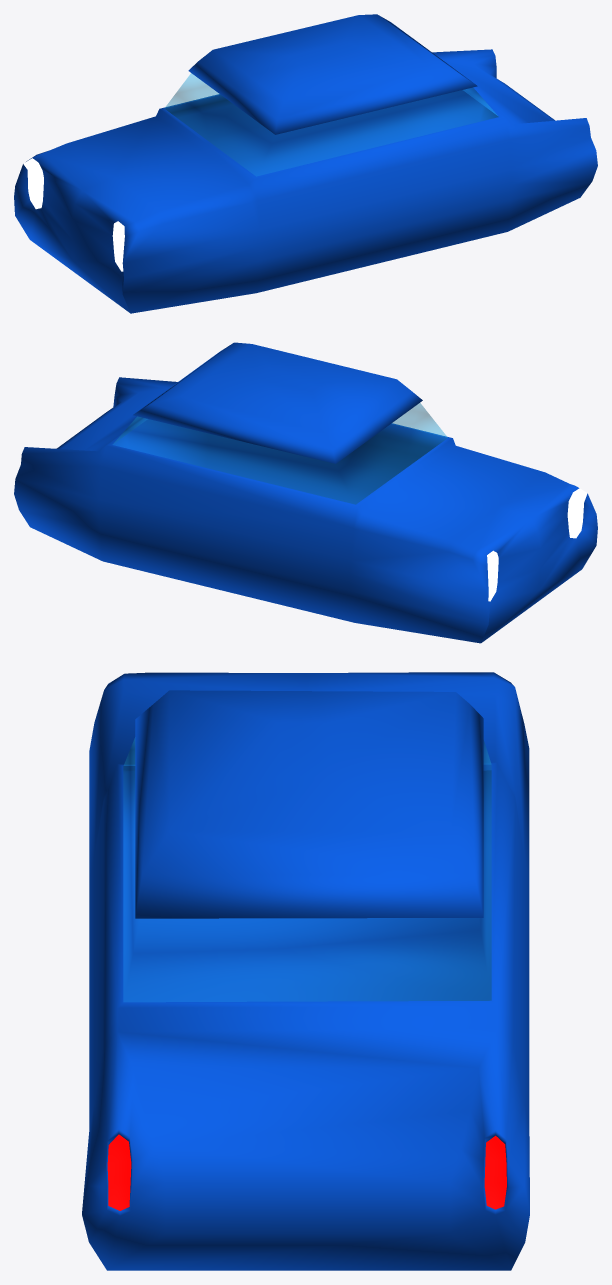
File: car2.glb
3 renders of one model, top to bottom at view 1: azimuth 30°, elevation 25°; view 2: azimuth 150°, elevation 25°; view 3: azimuth 270°, elevation 25°, orthographic. The views are drawn at different scales.
Visible parts, largest first — view 1: Flying car 2; view 2: Flying car 2; view 3: Flying car 2.
Boxes of the visible parts, bbox=[...] form: Flying car 2: bbox=[14, 14, 597, 313]; Flying car 2: bbox=[14, 342, 597, 643]; Flying car 2: bbox=[82, 672, 529, 1270].
Size of the model in its own units: 17.16 by 6.08 by 7.05.
